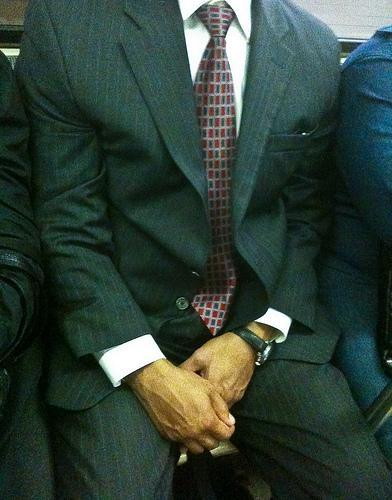hand: (112, 336, 242, 465), (190, 318, 276, 403)
